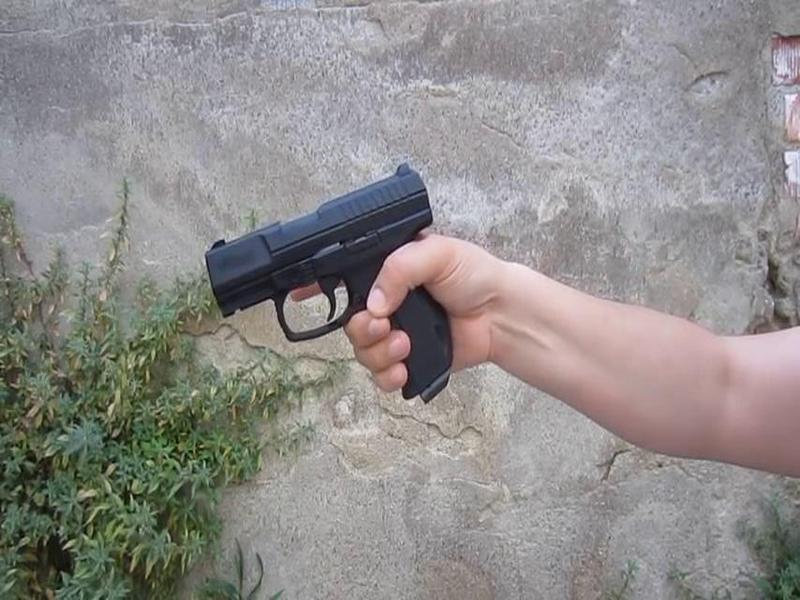Pistola: (181, 146, 526, 433)
